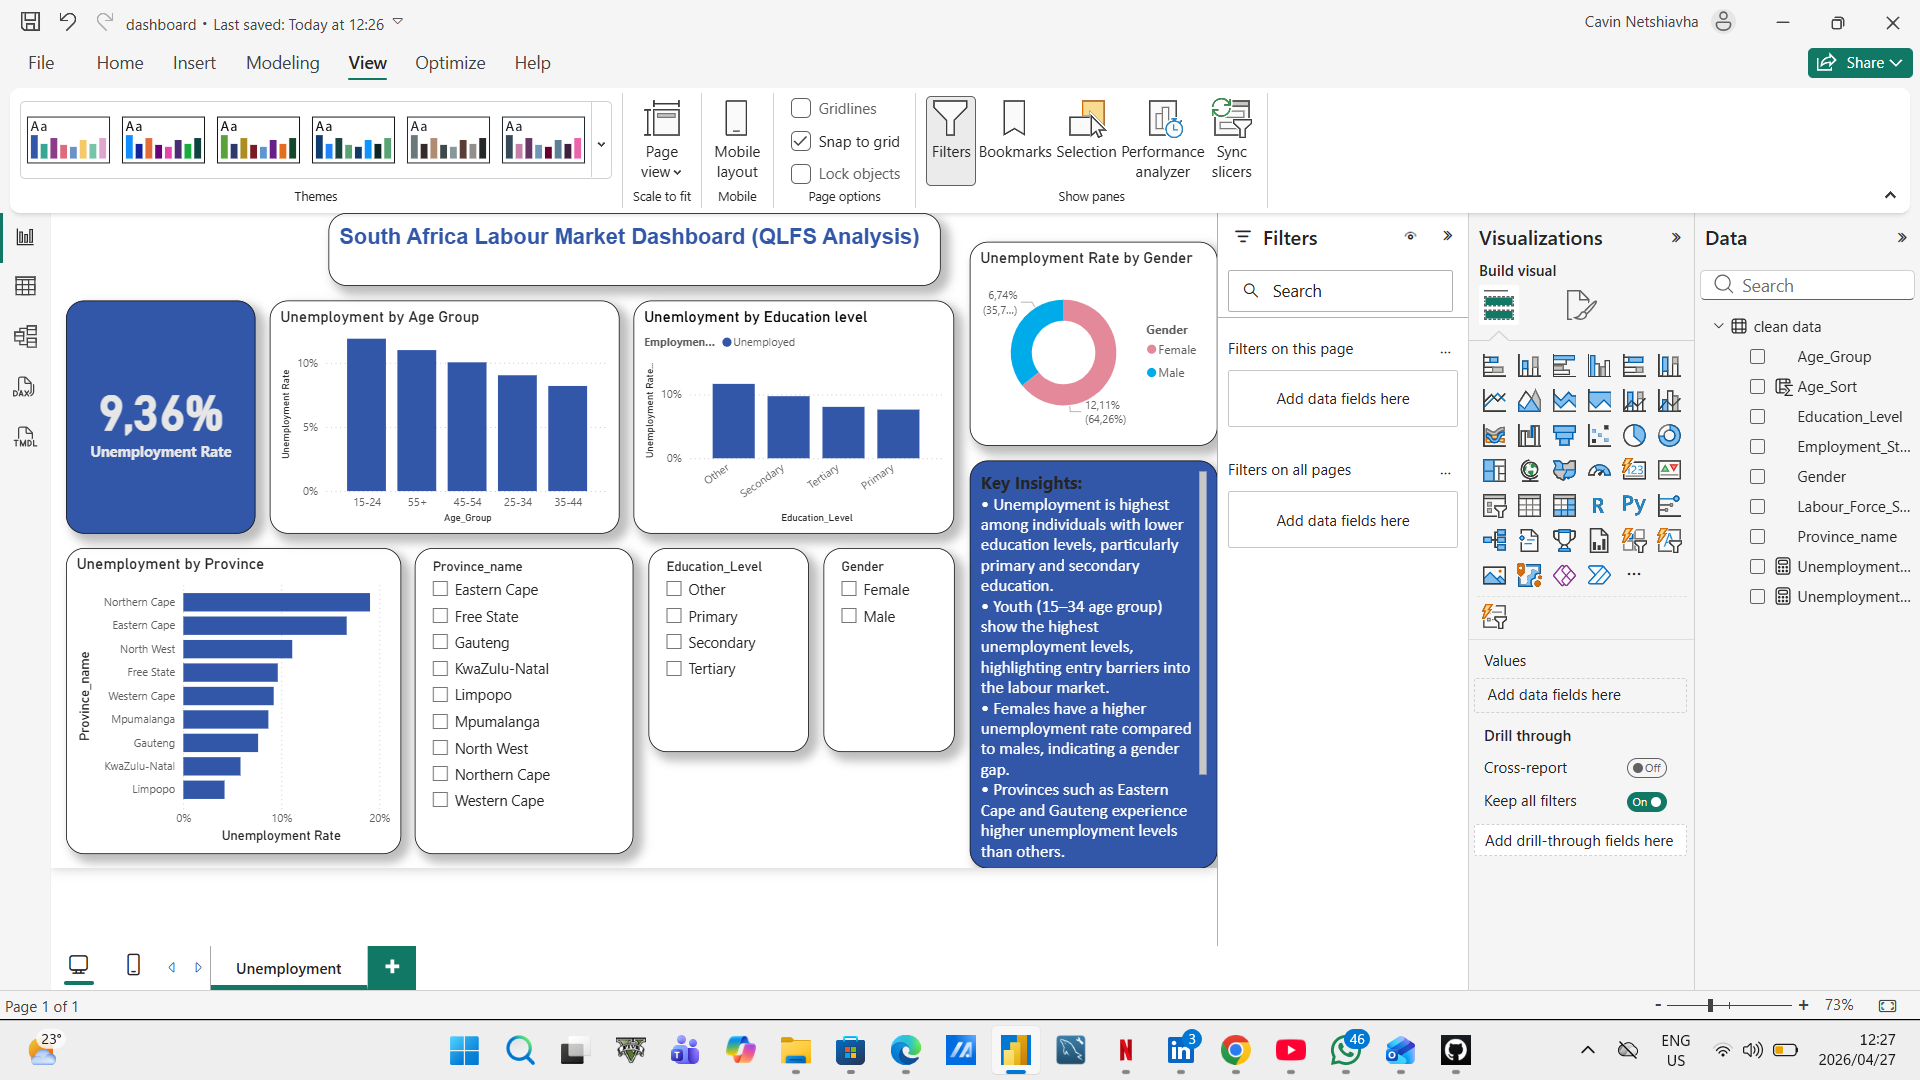

This screenshot's page, from the dashboard's own definition file:
{"tool":"powerbi","page":{"name":"Unemployment","canvas":[1280,720],"ordinal":0},"visuals":[{"type":"clusteredBarChart","title":"Unemployment by Province","fields":{"Category":["clean data.Province_name"],"Y":["clean data.Unemployment Rate"]},"box":[16,368,368,336],"z":0},{"type":"card","fields":{"Values":["clean data.Unemployment Rate"]},"box":[16,96,208,256],"z":1000},{"type":"clusteredColumnChart","title":"Unemployment by Age Group","fields":{"Category":["clean data.Age_Group"],"Y":["clean data.Unemployment Rate"]},"box":[240,96,384,256],"z":2000},{"type":"clusteredColumnChart","title":"Unemloyment by  Education level","fields":{"Category":["clean data.Education_Level"],"Series":["clean data.Employment_Status"],"Y":["clean data.Unemployment Rate Education"]},"box":[640,96,352,256],"z":3000},{"type":"donutChart","fields":{"Category":["clean data.Gender"],"Y":["clean data.Unemployment Rate"]},"box":[1008,32,272,224],"z":4000},{"type":"slicer","fields":{"Values":["clean data.Province_name"]},"box":[400,368,240,336],"z":5000},{"type":"slicer","fields":{"Values":["clean data.Education_Level"]},"box":[656,368,176,224],"z":6000},{"type":"textbox","box":[304,0,672,80],"z":7000},{"type":"textbox","box":[1008,272,272,448],"z":8000},{"type":"slicer","fields":{"Values":["clean data.Gender"]},"box":[848,368,144,224],"z":9000}]}

Visuals, with their boxes on the page's 1280x720 design canvas (x1, y1, x2, y2). These are canvas units, not pixel positions in the 1920x1080 screenshot, which may show the page scaled, cropped or inside an application window:
"Unemployment by Province" clusteredBarChart: 16 368 384 704
card - clean data.Unemployment Rate: 16 96 224 352
"Unemployment by Age Group" clusteredColumnChart: 240 96 624 352
"Unemloyment by  Education level" clusteredColumnChart: 640 96 992 352
donutChart - clean data.Gender x clean data.Unemployment Rate: 1008 32 1280 256
slicer - clean data.Province_name: 400 368 640 704
slicer - clean data.Education_Level: 656 368 832 592
textbox: 304 0 976 80
textbox: 1008 272 1280 720
slicer - clean data.Gender: 848 368 992 592
